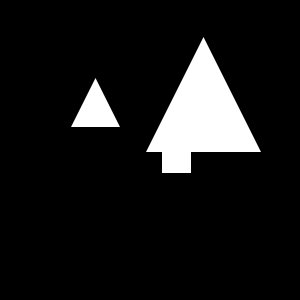circle: (162, 144, 191, 173)
triangle: (146, 37, 261, 152), (71, 78, 120, 127)
